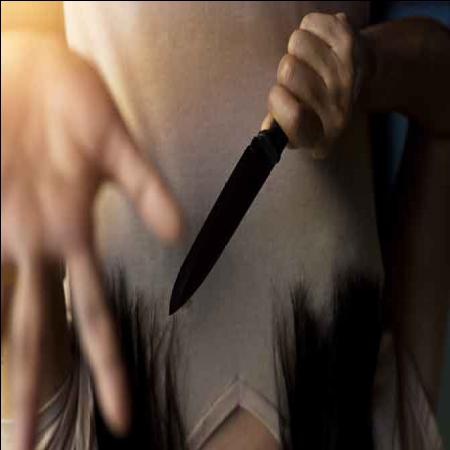long weapon: (163, 7, 349, 325)
